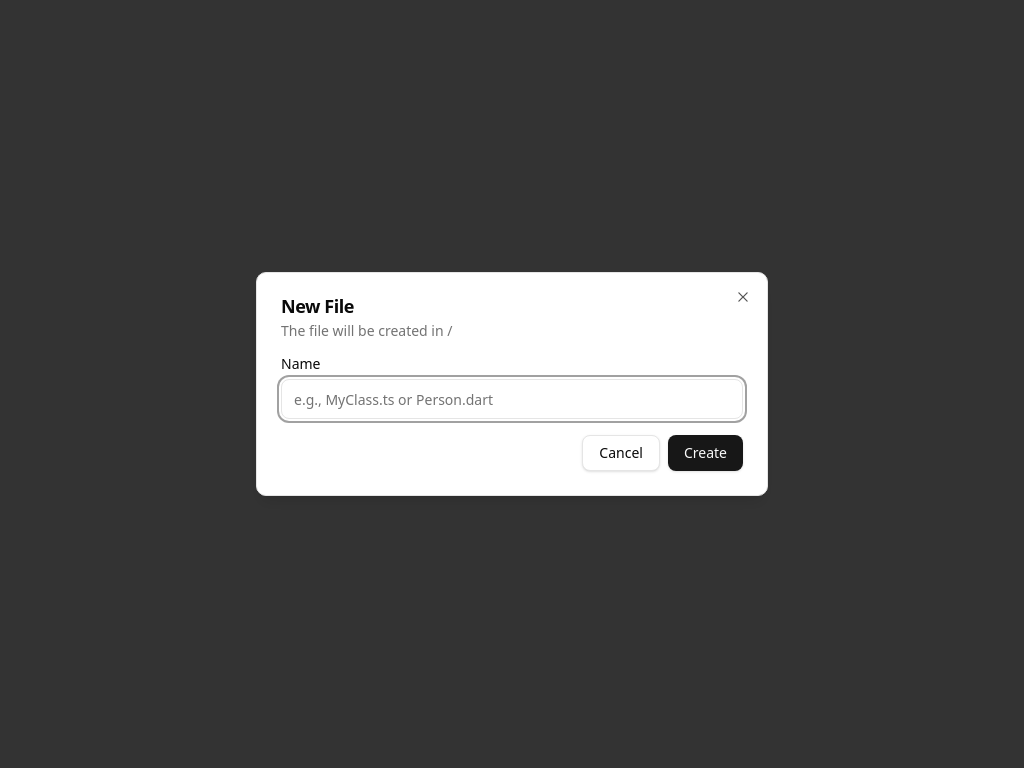
Test: CreateDialog - File Extension Validation › Rejects files without extension › shows error for extension-only filename
The width and height of the screenshot is (1024, 768).
In the field: (512, 399) [281,379,743,419], type ".ts"
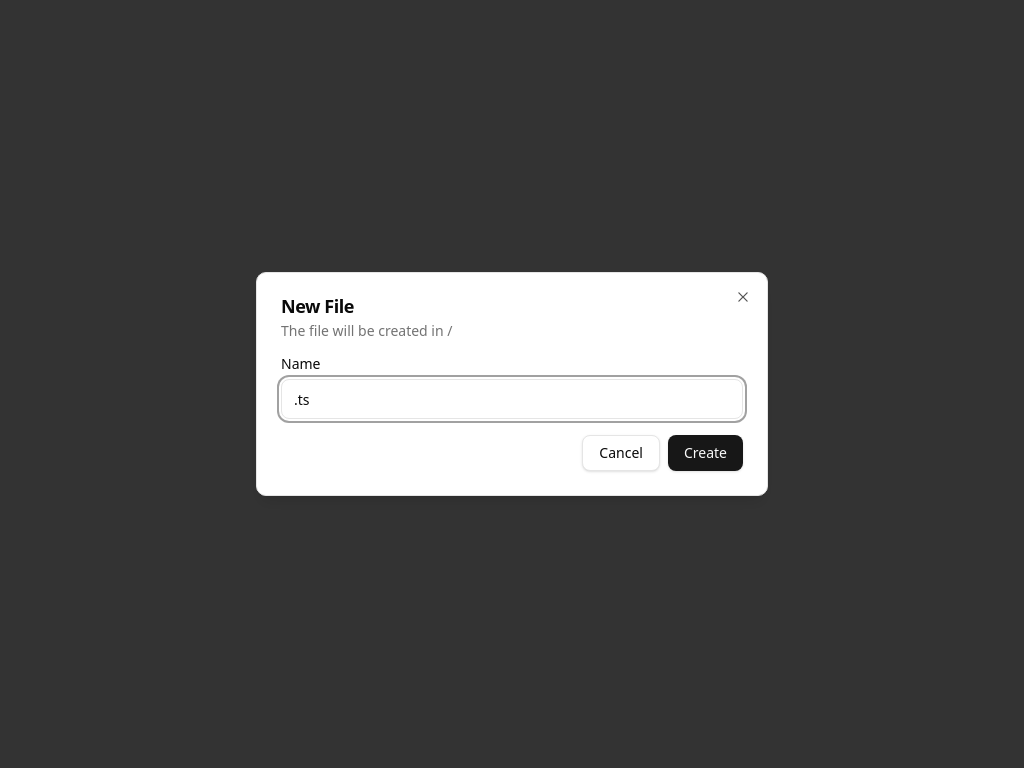
Click the button "Create": (705, 453) [668,435,743,471]
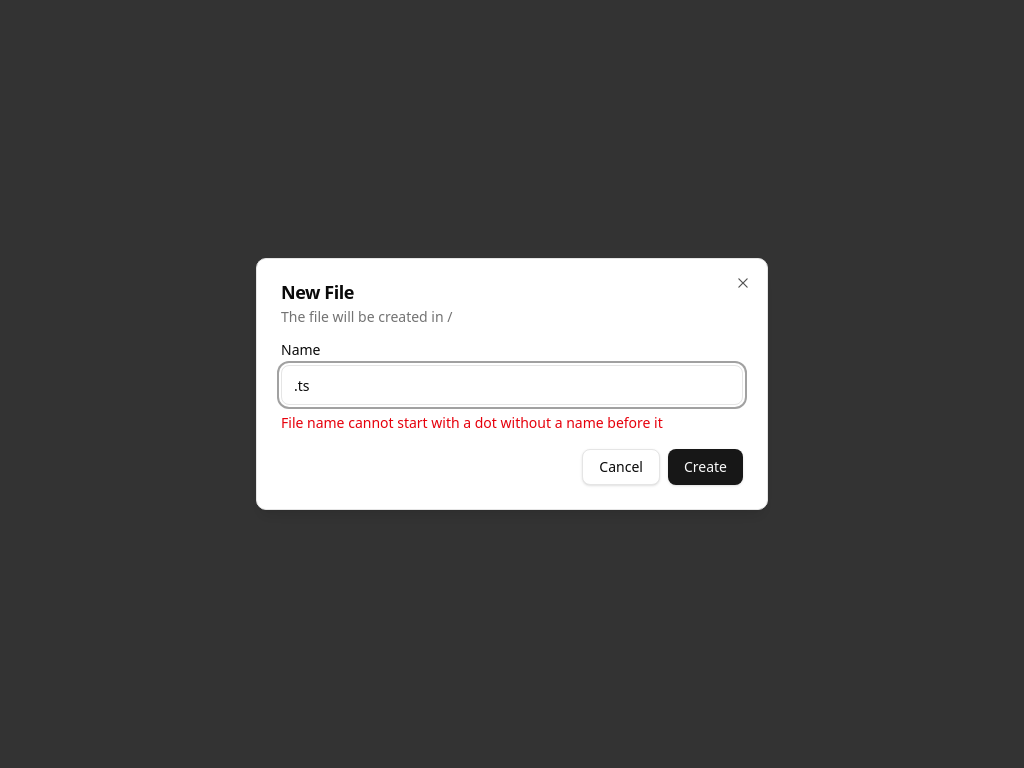
Check: the message "File name cannot start with a dot without a name before it" is shown, box [281,413,663,432]
